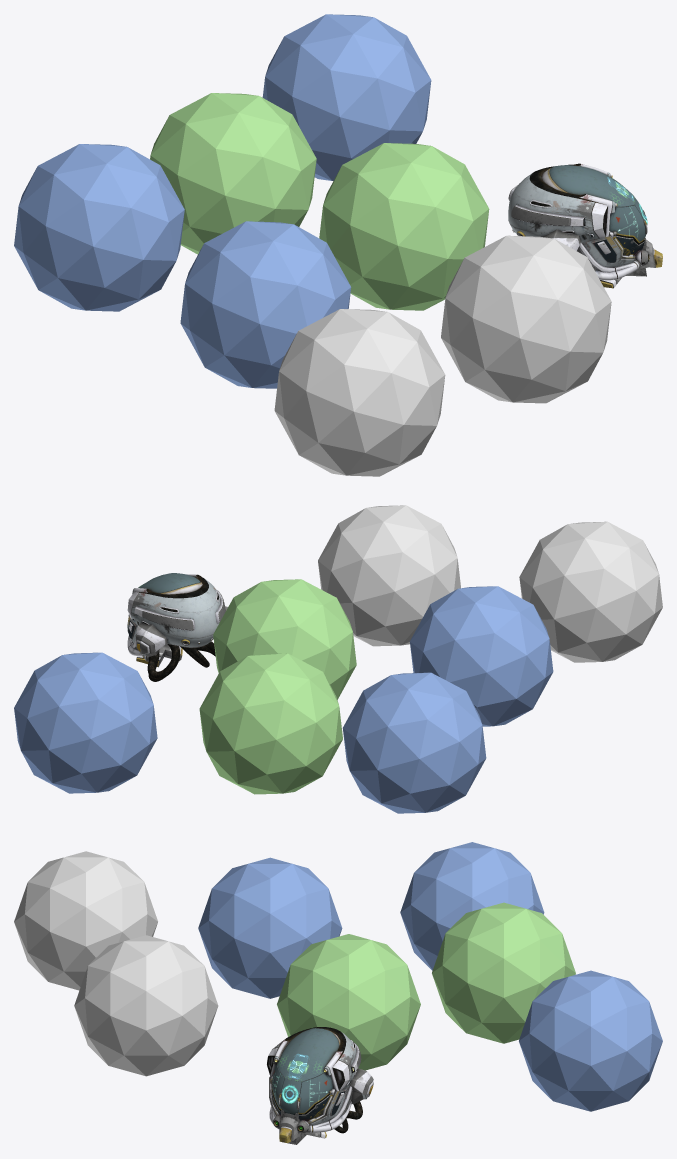
Rendered from simple2.glb.
The picture shows the model from 3 angles, top to bottom: view 1: azimuth 30°, elevation 25°; view 2: azimuth 150°, elevation 25°; view 3: azimuth 270°, elevation 25°; orthographic projection. The views are drawn at different scales.
Parts seen in each view (by area): view 1: Icosphere.001, Icosphere.002, Icosphere.006, Icosphere.005, Icosphere, Icosphere.004, Icosphere.003, node_damagedHelmet_-6514; view 2: Icosphere.003, Icosphere.004, Icosphere.001, Icosphere.006, Icosphere.002, Icosphere, Icosphere.005, node_damagedHelmet_-6514; view 3: Icosphere.004, Icosphere.002, Icosphere.003, Icosphere, Icosphere.006, Icosphere.005, node_damagedHelmet_-6514, Icosphere.001.
Boxes of the visible parts, <box> form: Icosphere.001: <box>14,144,184,311</box>; Icosphere.002: <box>441,235,611,403</box>; Icosphere.006: <box>274,309,445,476</box>; Icosphere.005: <box>319,143,489,310</box>; Icosphere: <box>180,221,351,388</box>; Icosphere.004: <box>262,14,431,180</box>; Icosphere.003: <box>150,93,316,254</box>; node_damagedHelmet_-6514: <box>508,163,662,288</box>; Icosphere.003: <box>199,653,342,794</box>; Icosphere.004: <box>14,652,157,793</box>; Icosphere.001: <box>342,672,486,813</box>; Icosphere.006: <box>519,521,662,662</box>; Icosphere.002: <box>318,505,460,646</box>; Icosphere: <box>409,586,553,726</box>; Icosphere.005: <box>213,579,356,699</box>; node_damagedHelmet_-6514: <box>127,573,227,681</box>; Icosphere.004: <box>519,970,662,1111</box>; Icosphere.002: <box>74,935,218,1076</box>; Icosphere.003: <box>432,902,575,1043</box>; Icosphere: <box>198,857,342,998</box>; Icosphere.006: <box>14,851,157,990</box>; Icosphere.005: <box>277,934,420,1070</box>; node_damagedHelmet_-6514: <box>266,1027,373,1144</box>; Icosphere.001: <box>400,842,544,970</box>.
Size of what is drawn, in the model's own units: 27.4 by 7.76 by 35.7.
Materials: 4 (1 with a texture image).
